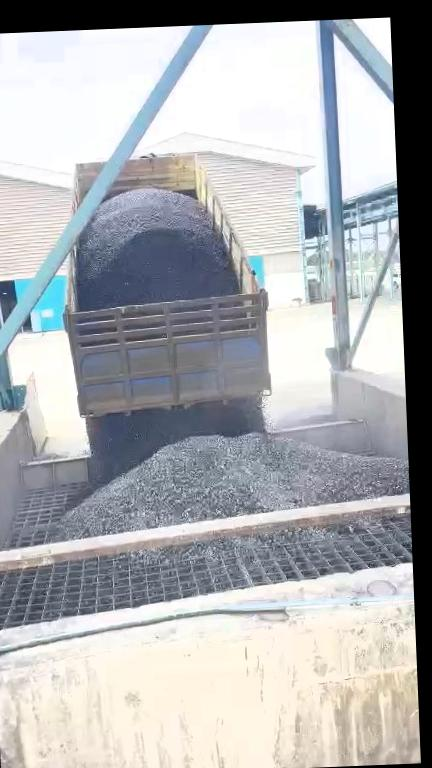gravel: (60, 433, 410, 538), (77, 188, 239, 309), (89, 396, 262, 481), (131, 520, 371, 564)
